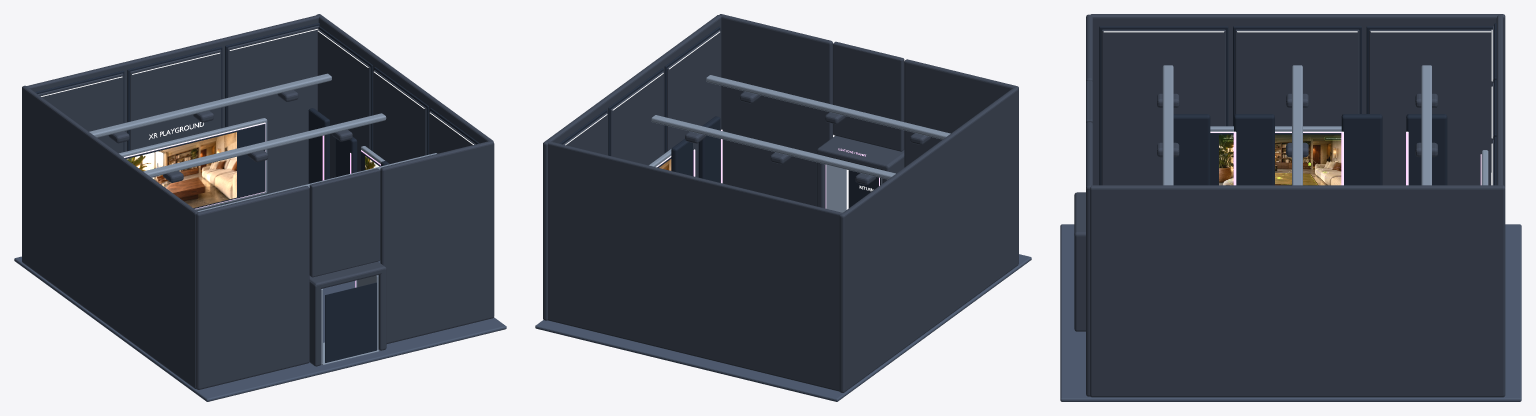
The model's file is play.glb.
3 renders of one model, left to right at view 1: azimuth 30°, elevation 25°; view 2: azimuth 150°, elevation 25°; view 3: azimuth 270°, elevation 25°, orthographic. The views are drawn at different scales.
Visible parts, largest first — view 1: V14 play / V14 play / shell.004 finish, V14 play / Lateral hull.008, V14 play / Rear hull wing.008, V14 play / Rear hull wing.009, V14 play / V14 play / dark.004 finish, V14 play / V14 play / metal.004 finish, V14 play / Continuous satin deck.004, V14 play / Original artwork / living-room.008, V14 play / Return aperture.004, V14 play / Front hull.004, V14 play / Lateral hull.009, V14 play / V14 play / white.004 finish (+1 smaller); view 2: V14 play / Front hull.004, V14 play / Lateral hull.008, V14 play / V14 play / shell.004 finish, V14 play / Rear hull wing.009, V14 play / Rear hull wing.008, V14 play / V14 play / metal.004 finish, V14 play / Continuous satin deck.004, V14 play / Lateral hull.009, V14 play / V14 play / dark.004 finish, V14 play / Return aperture.004; view 3: V14 play / Lateral hull.009, V14 play / V14 play / shell.004 finish, V14 play / V14 play / dark.004 finish, V14 play / Continuous satin deck.004, V14 play / Lateral hull.008, V14 play / V14 play / metal.004 finish, V14 play / Original artwork / playground-concept-poster.004, V14 play / Front hull.004, V14 play / Rear hull wing.009, V14 play / V14 play / white.004 finish, V14 play / V14 play / accent.004 finish, V14 play / Rear hull wing.008.
Boxes of the visible parts, left/top/right/bottom form: V14 play / V14 play / shell.004 finish: left=38, top=25, right=475, bottom=366; V14 play / Lateral hull.008: left=22, top=85, right=197, bottom=388; V14 play / Rear hull wing.008: left=196, top=186, right=309, bottom=389; V14 play / Rear hull wing.009: left=380, top=141, right=494, bottom=343; V14 play / V14 play / dark.004 finish: left=35, top=23, right=479, bottom=208; V14 play / V14 play / metal.004 finish: left=89, top=73, right=436, bottom=364; V14 play / Continuous satin deck.004: left=14, top=256, right=506, bottom=401; V14 play / Original artwork / living-room.008: left=126, top=132, right=236, bottom=207; V14 play / Return aperture.004: left=325, top=282, right=376, bottom=362; V14 play / Front hull.004: left=25, top=15, right=319, bottom=204; V14 play / Lateral hull.009: left=316, top=14, right=493, bottom=154; V14 play / V14 play / white.004 finish: left=41, top=29, right=473, bottom=144; V14 play / Front hull.004: left=547, top=141, right=842, bottom=391; V14 play / Lateral hull.008: left=839, top=87, right=1018, bottom=392; V14 play / V14 play / shell.004 finish: left=563, top=30, right=930, bottom=208; V14 play / Rear hull wing.009: left=719, top=14, right=832, bottom=206; V14 play / Rear hull wing.008: left=904, top=59, right=1018, bottom=263; V14 play / V14 play / metal.004 finish: left=649, top=75, right=950, bottom=212; V14 play / Continuous satin deck.004: left=535, top=254, right=1031, bottom=401; V14 play / Lateral hull.009: left=543, top=15, right=721, bottom=320; V14 play / V14 play / dark.004 finish: left=559, top=26, right=720, bottom=182; V14 play / Return aperture.004: left=848, top=170, right=880, bottom=207; V14 play / Lateral hull.009: left=1090, top=185, right=1505, bottom=397; V14 play / V14 play / shell.004 finish: left=1074, top=26, right=1493, bottom=331; V14 play / V14 play / dark.004 finish: left=1099, top=23, right=1496, bottom=185; V14 play / Continuous satin deck.004: left=1060, top=224, right=1521, bottom=401; V14 play / Lateral hull.008: left=1091, top=14, right=1505, bottom=186; V14 play / V14 play / metal.004 finish: left=1162, top=65, right=1488, bottom=185; V14 play / Original artwork / playground-concept-poster.004: left=1219, top=134, right=1341, bottom=185; V14 play / Front hull.004: left=1496, top=15, right=1503, bottom=185; V14 play / Rear hull wing.009: left=1086, top=122, right=1092, bottom=396; V14 play / V14 play / white.004 finish: left=1103, top=29, right=1492, bottom=185; V14 play / V14 play / accent.004 finish: left=1210, top=131, right=1481, bottom=185; V14 play / Rear hull wing.008: left=1086, top=14, right=1092, bottom=81.
Bounding box in the file's own units: 19.2 × 11.01 × 21.4.
9 materials, 3 textured.
